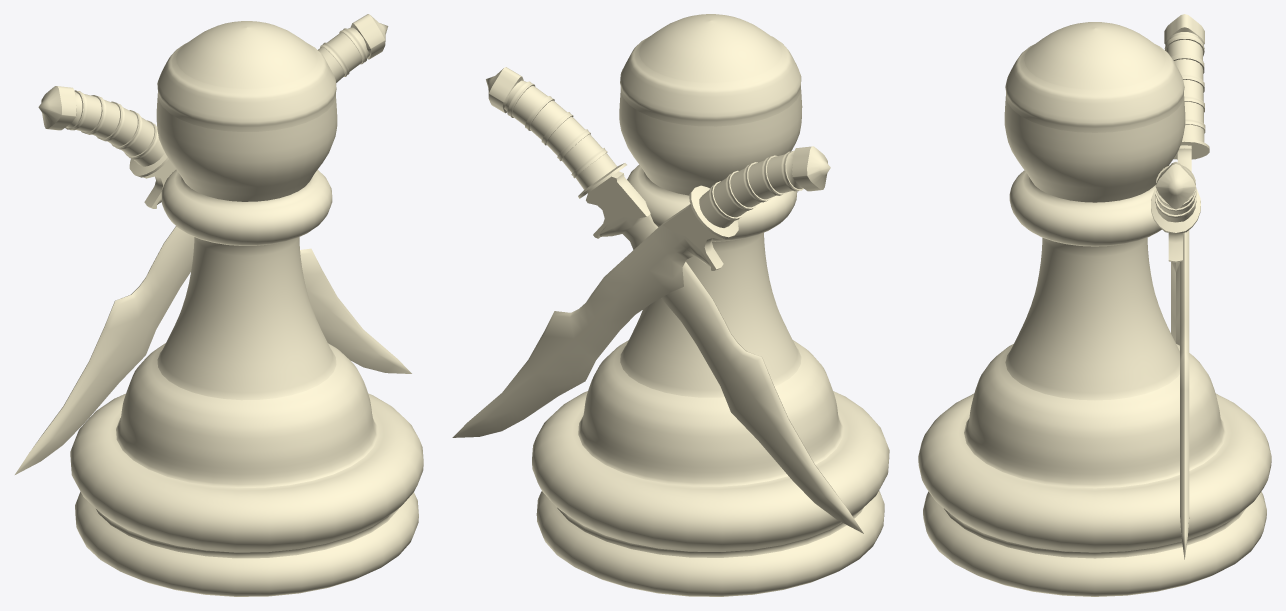
File: Assassin.fbx
3 renders of one model, left to right at view 1: azimuth 30°, elevation 25°; view 2: azimuth 150°, elevation 25°; view 3: azimuth 270°, elevation 25°, orthographic.
Parts seen in each view (by area): view 1: Assassin; view 2: Assassin; view 3: Assassin.
Boxes of the visible parts, x1,y1,x2,y2 form: Assassin: (15,14,423,596); Assassin: (452,14,889,596); Assassin: (918,14,1271,596).
Size of the model in its own units: 182 by 218 by 139.
